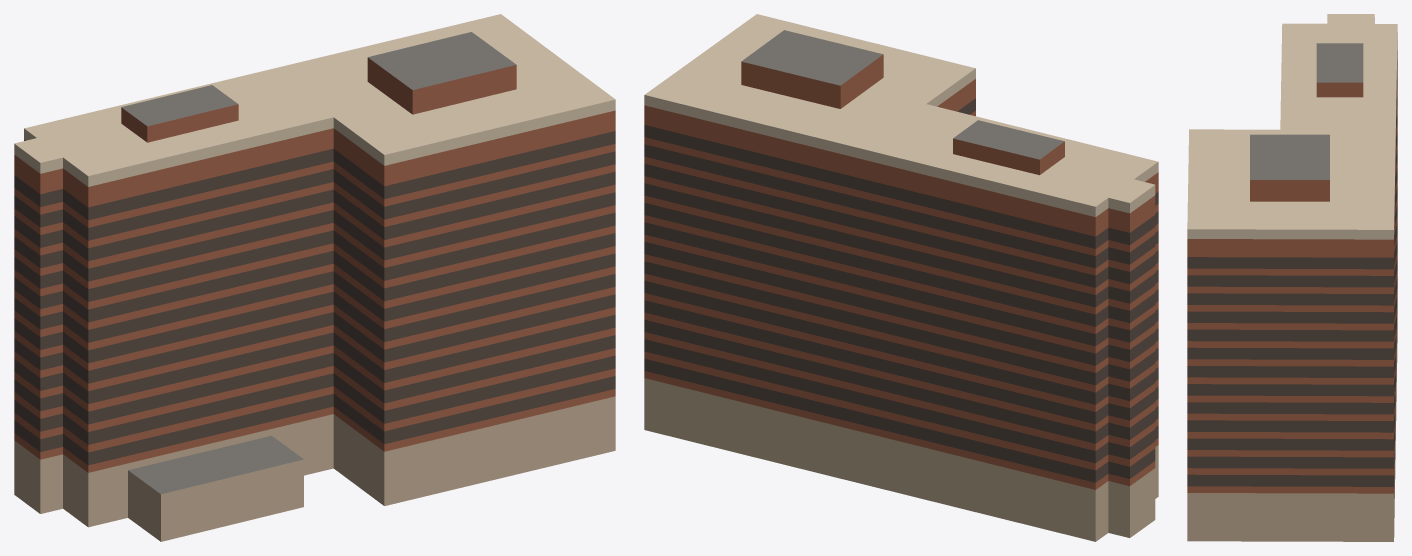
File: las_vegas_marriott_w313762432.glb
3 views of the same model, side by side, from view 1: azimuth 30°, elevation 25°; view 2: azimuth 150°, elevation 25°; view 3: azimuth 270°, elevation 25° (orthographic). The views are drawn at different scales.
Parts seen in each view (by area): view 1: Tower_w313762432; view 2: Tower_w313762432; view 3: Tower_w313762432.
Part boxes in pixels (x1=…): Tower_w313762432: x1=14, y1=14, x2=615, y2=541; Tower_w313762432: x1=644, y1=14, x2=1158, y2=541; Tower_w313762432: x1=1187, y1=14, x2=1397, y2=541.
Size of the model in its own units: 76.58 by 55.2 by 31.51.
